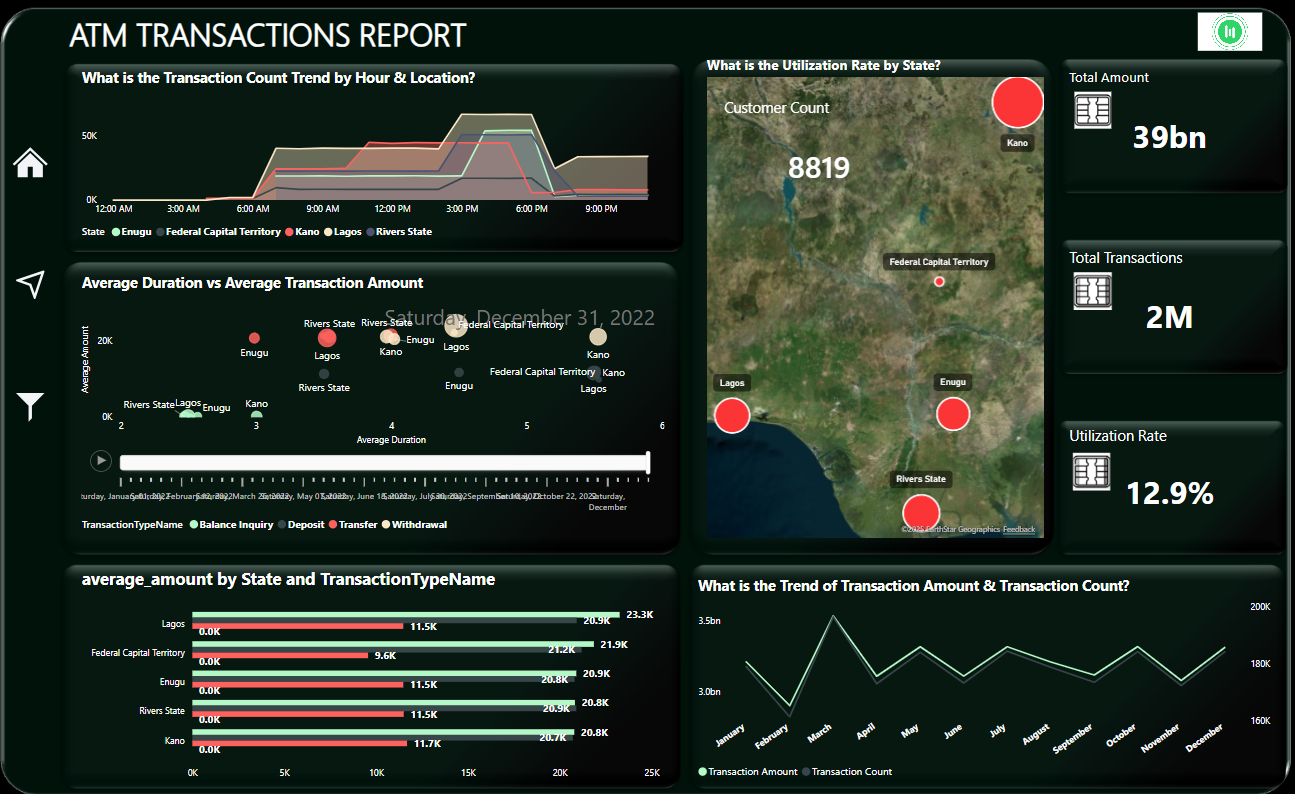

The dashboard page shown, as its layout file describes it:
{"tool":"powerbi","page":{"name":"Overview","canvas":[1550,960],"ordinal":1},"visuals":[{"type":"clusteredBarChart","fields":{"Y":[" Measures Table.average_amount"],"Category":["Location.State"],"Series":["Transaction Type.TransactionTypeName"]},"box":[98.3,680.4,704.2,262],"z":0},{"type":"areaChart","title":"What is the Transaction Count Trend by Hour & Location?","fields":{"Y":[" Measures Table.transaction_count"],"Category":["Hour.Hour_Start_Time"],"Series":["Location.State"]},"box":[98.3,84.9,704.2,214.4],"z":1000},{"type":"lineChart","title":"What is the Trend of Transaction Amount & Transaction Count?","fields":{"Y":[" Measures Table.transaction amount"],"Y2":[" Measures Table.transaction_count"],"Category":["Calendar.Month Name"]},"box":[832.3,690.8,692.3,251.6],"z":2000},{"type":"card","title":"Total Amount","fields":{"Values":[" Measures Table.transaction amount"]},"box":[1274.4,84.9,250.1,142.9],"z":3000},{"type":"card","title":" Total Transactions","fields":{"Values":[" Measures Table.transaction_count"]},"box":[1274.4,299.3,250.1,140],"z":4000},{"type":"card","title":"Utilization Rate","fields":{"Values":[" Measures Table.Utilization Rate"]},"box":[1274.4,512.2,250.1,135.5],"z":5000},{"type":"image","box":[1427.8,14.9,86.4,55.1],"z":6000},{"type":"scatterChart","title":"Average Duration vs Average Transaction Amount","fields":{"X":[" Measures Table.average_duration"],"Y":[" Measures Table.average_amount"],"Size":[" Measures Table.number_of_customers"],"Play":["Calendar.End of Week"],"Category":["Location.State"],"Series":["Transaction Type.TransactionTypeName"]},"box":[98.3,329,704.2,318.6],"z":7000},{"type":"azureMap","title":"What is the Utilization Rate by State?","fields":{"Category":["Location.State"],"Size":[" Measures Table.Utilization Rate"]},"box":[842.7,70,410.9,580.6],"z":8000},{"type":"card","title":"Customer Count","fields":{"Values":[" Measures Table.number_of_customers"]},"box":[863.5,120.6,236.7,142.9],"z":9000},{"type":"textbox","box":[83.4,14.9,539,70],"z":10000},{"type":"actionButton","box":[16.4,171.2,53.6,56.6],"z":11000},{"type":"actionButton","box":[16.4,312.7,53.6,56.6],"z":12000},{"type":"actionButton","box":[16.5,456.9,52.6,55.6],"z":12500}]}

Visuals, with their boxes in screenshot pixels (x1, y1, x2, y2), scaled from the page's 1550x960 canvas onto the 1295x794 screenshot:
clusteredBarChart -  Measures Table.average_amount x Location.State: (82, 563, 670, 779)
"What is the Transaction Count Trend by Hour & Location?" areaChart: (82, 70, 670, 248)
"What is the Trend of Transaction Amount & Transaction Count?" lineChart: (695, 571, 1274, 779)
"Total Amount" card: (1065, 70, 1274, 188)
" Total Transactions" card: (1065, 248, 1274, 363)
"Utilization Rate" card: (1065, 424, 1274, 536)
image: (1193, 12, 1265, 58)
"Average Duration vs Average Transaction Amount" scatterChart: (82, 272, 670, 536)
"What is the Utilization Rate by State?" azureMap: (704, 58, 1047, 538)
"Customer Count" card: (721, 100, 919, 218)
textbox: (70, 12, 520, 70)
actionButton: (14, 142, 58, 188)
actionButton: (14, 259, 58, 305)
actionButton: (14, 378, 58, 424)
